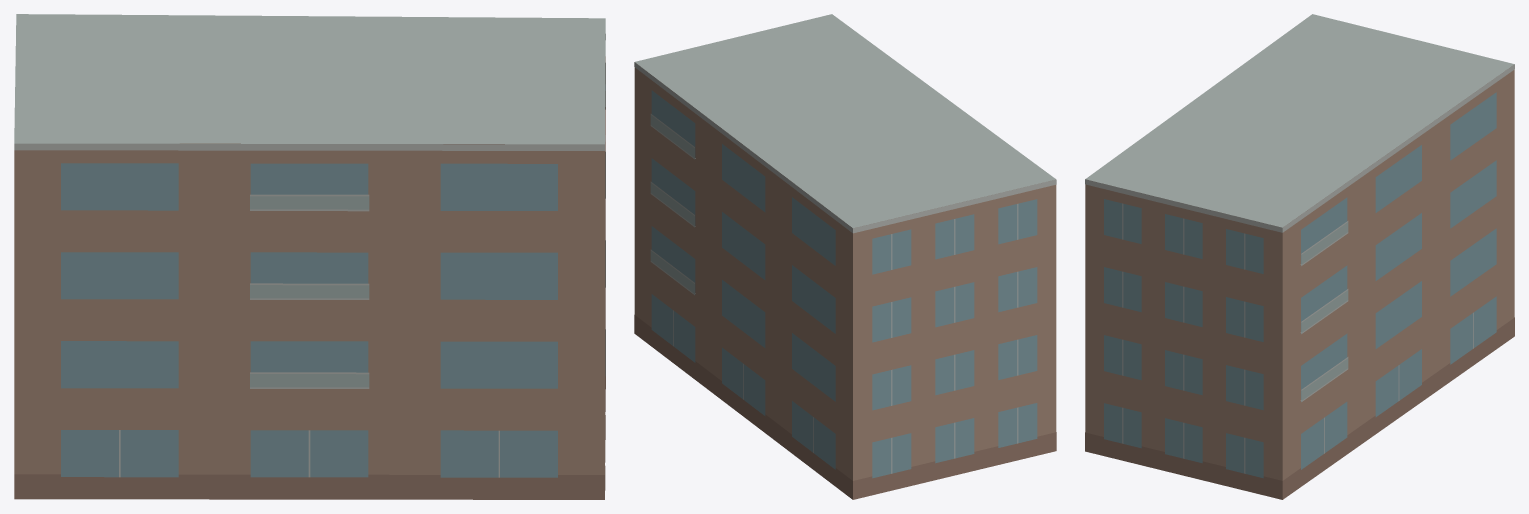
The model's file is survey-upis-32711041.glb.
3 renders of one model, left to right at view 1: azimuth 30°, elevation 25°; view 2: azimuth 150°, elevation 25°; view 3: azimuth 270°, elevation 25°, orthographic. The views are drawn at different scales.
Parts seen in each view (by area): view 1: survey-upis-32711041.tmp; view 2: survey-upis-32711041.tmp; view 3: survey-upis-32711041.tmp.
Part boxes in pixels (x1,y1,x2,y2): survey-upis-32711041.tmp: [14, 14, 605, 499]; survey-upis-32711041.tmp: [634, 14, 1056, 499]; survey-upis-32711041.tmp: [1085, 14, 1514, 499].
Bounding box in the file's own units: 21.55 × 12.8 × 18.31.
